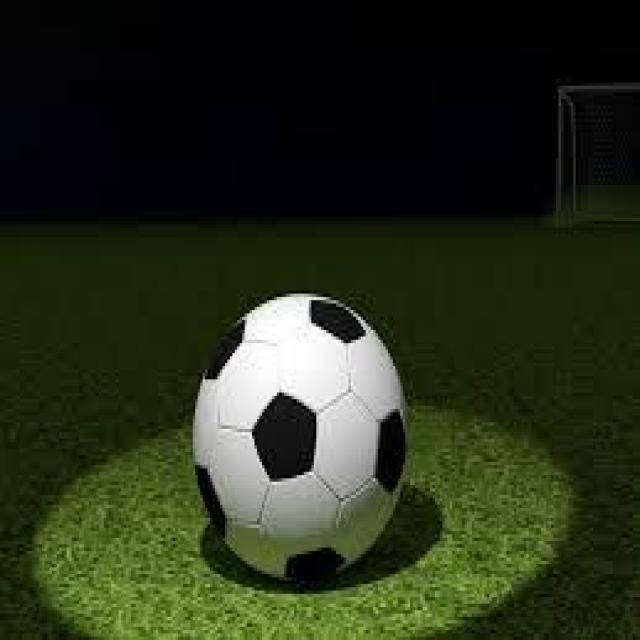Soccer Ball: (195, 297, 408, 587)
